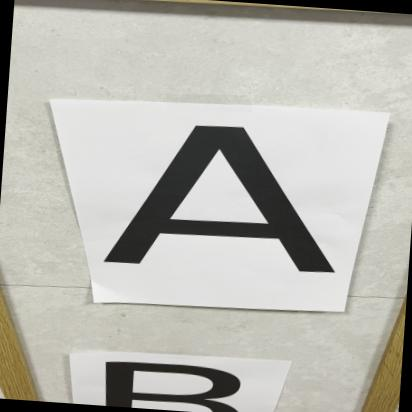seat: (78, 100, 352, 302)
